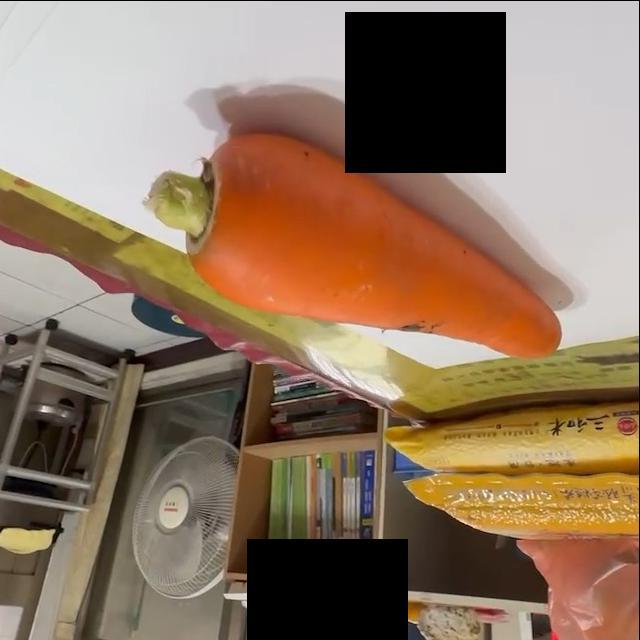carrot: (150, 129, 562, 361)
